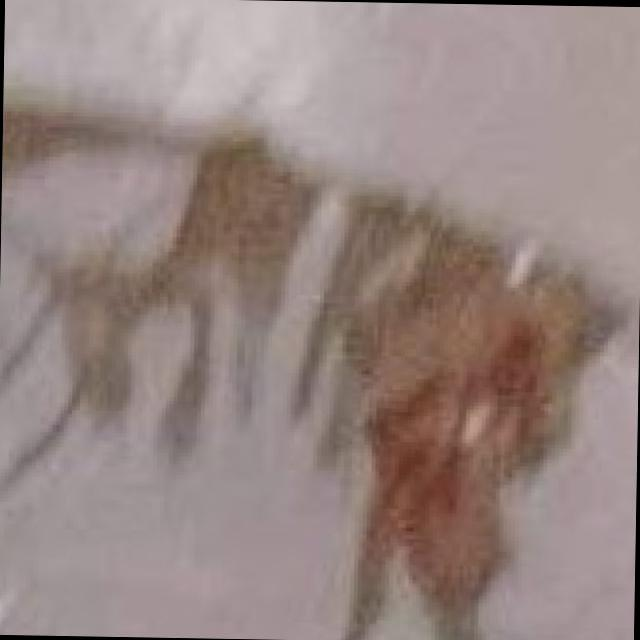General: (4, 103, 617, 636)
